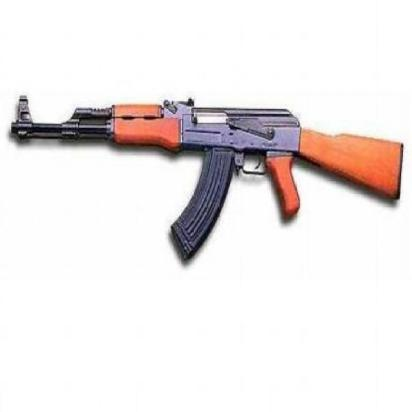Gun: (6, 86, 406, 274)
